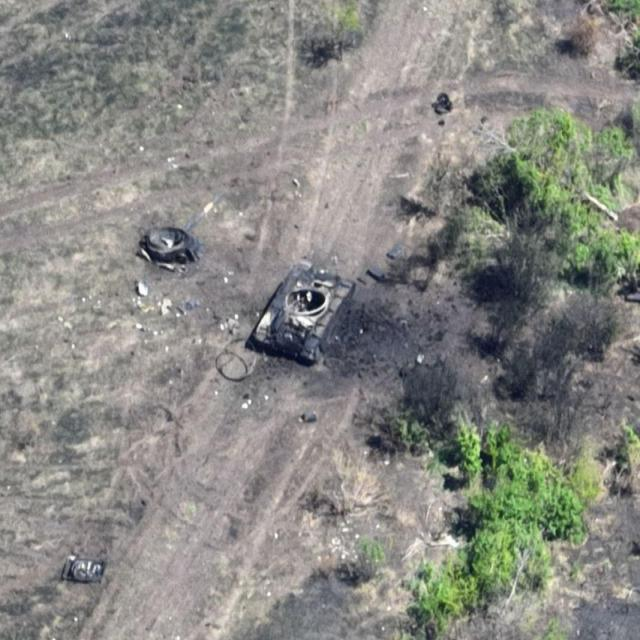Destroyed: (255, 263, 358, 368)
